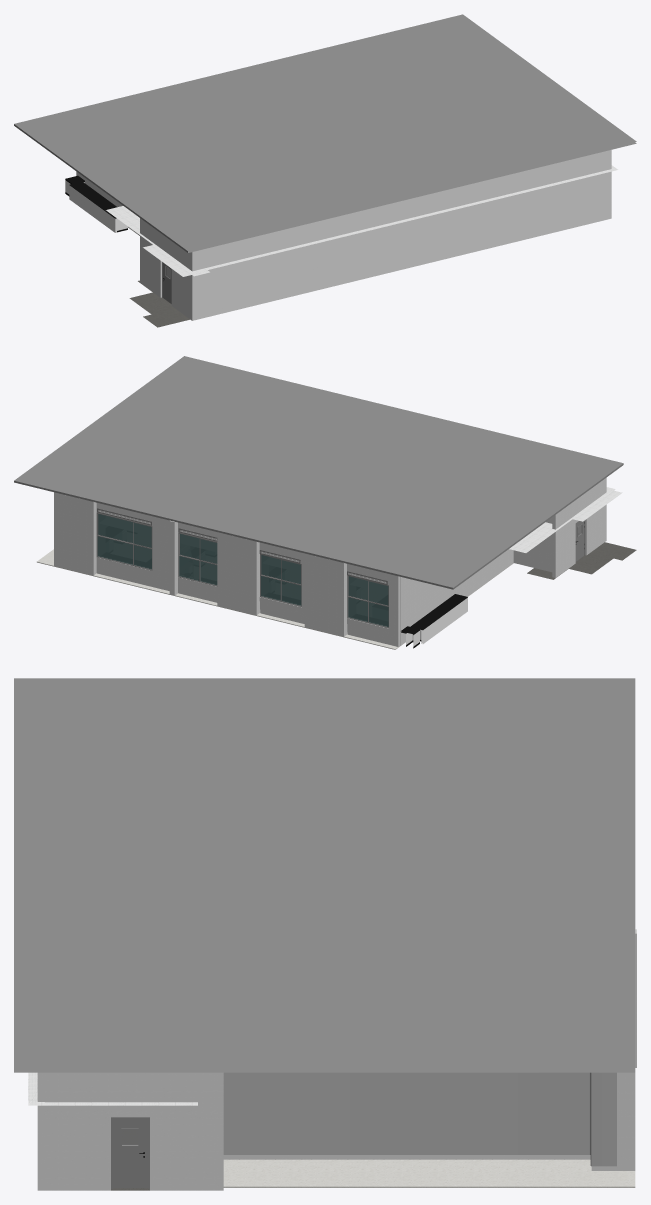
Rendered from SYS_WSW_FangJian_D.fbx.
3 views of the same model, one above another, from view 1: azimuth 30°, elevation 25°; view 2: azimuth 150°, elevation 25°; view 3: azimuth 270°, elevation 25° (orthographic). The views are drawn at different scales.
Visible parts, largest first — view 1: SYS_WSW_SZJK_DING, Object241, Object265, SYS_WSW_GuiZi_009, SYS_WSW_DiMian_000; view 2: SYS_WSW_SZJK_DING, SYS_WSW_SZJK_DLL_QM, SYS_WSW_SZJK_DLL_BoLi, Object235, Object241, Object236, SYS_WSW_DiMian_001, SYS_WSW_GuiZi_009, SYS_WSW_DiMian_000, Object265, SYS_WSW_SZJK_DLL_K; view 3: SYS_WSW_SZJK_DING, SYS_WSW_SZJK_DLL_baisehuban, Object241, SYS_WSW_DiMian_001, SYS_WSW_SZJK_DLL_QM, SYS_WSW_Men_B_007, Object265.
Boxes of the visible parts, box(x1,y1,x2,y2) form: SYS_WSW_SZJK_DING: box(14, 14, 636, 252); Object241: box(140, 150, 611, 320); Object265: box(106, 165, 617, 276); SYS_WSW_GuiZi_009: box(69, 181, 127, 232); SYS_WSW_DiMian_000: box(129, 280, 189, 327); SYS_WSW_SZJK_DING: box(14, 356, 623, 589); SYS_WSW_SZJK_DLL_QM: box(54, 492, 552, 645); SYS_WSW_SZJK_DLL_BoLi: box(97, 514, 388, 626); Object235: box(259, 542, 400, 646); Object241: box(552, 478, 606, 577); Object236: box(178, 528, 388, 628); SYS_WSW_DiMian_001: box(37, 549, 513, 649); SYS_WSW_GuiZi_009: box(410, 594, 467, 644); SYS_WSW_DiMian_000: box(527, 542, 636, 579); Object265: box(509, 487, 622, 552); SYS_WSW_SZJK_DLL_K: box(96, 508, 152, 570); SYS_WSW_SZJK_DING: box(14, 678, 635, 1072); SYS_WSW_SZJK_DLL_baisehuban: box(223, 1072, 616, 1166); Object241: box(37, 1072, 223, 1190); SYS_WSW_DiMian_001: box(223, 1159, 635, 1187); SYS_WSW_SZJK_DLL_QM: box(223, 929, 636, 1170); SYS_WSW_Men_B_007: box(111, 1117, 149, 1189); Object265: box(28, 1072, 197, 1105).
Size of the model in its own units: 26850 by 4241 by 17237.
